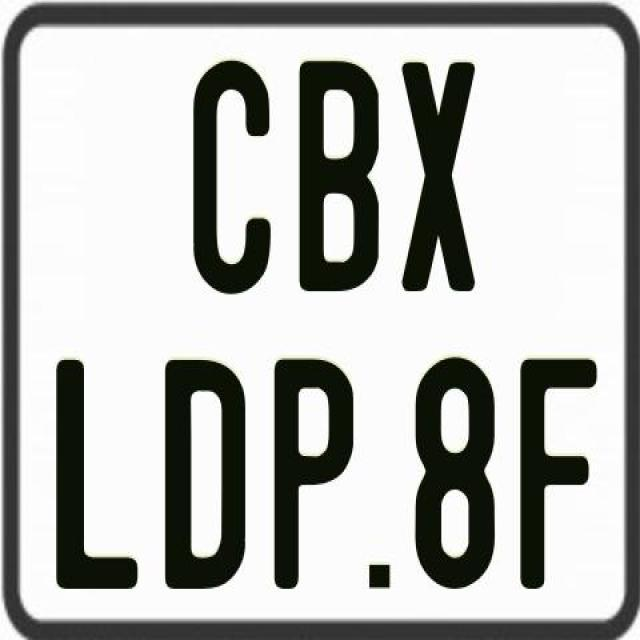8: (414, 352, 496, 589)
B: (297, 61, 379, 292)
C: (189, 56, 268, 296)
D: (164, 355, 248, 584)
F: (520, 355, 598, 595)
L: (52, 355, 134, 584)
P: (272, 358, 356, 592)
X: (400, 59, 476, 288)
